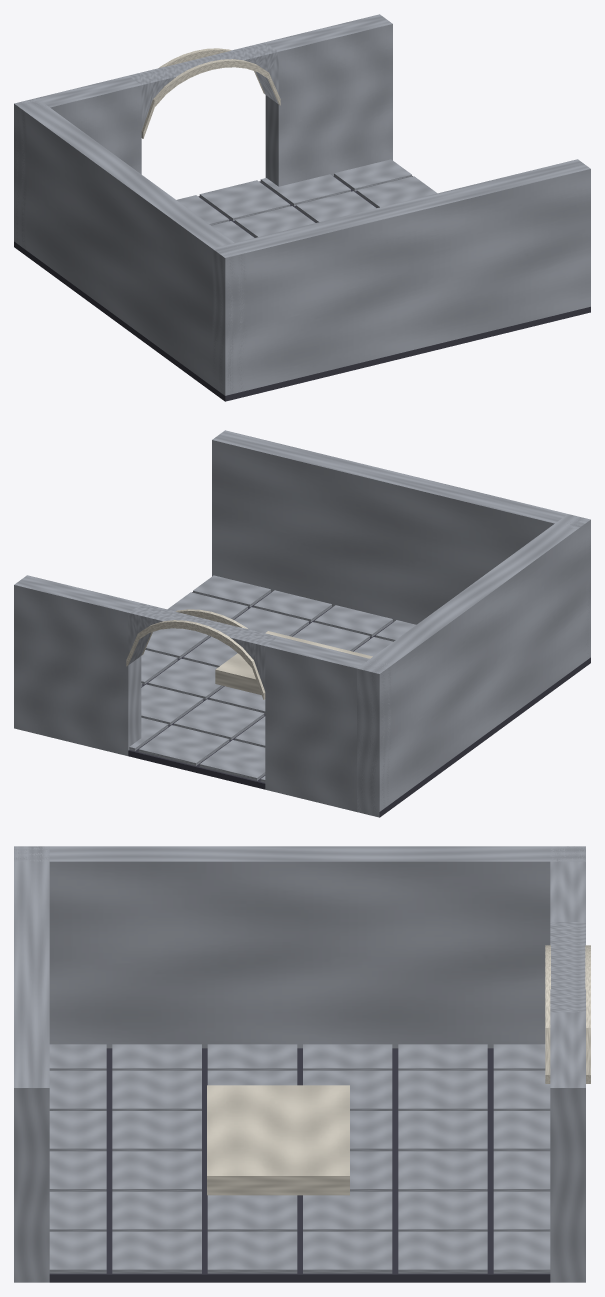
The model's file is vampire-crypt-and-gothic-cathedral-tomb-chamber-cutawa-d294e747__23057.glb.
3 renders of one model, top to bottom at view 1: azimuth 30°, elevation 25°; view 2: azimuth 150°, elevation 25°; view 3: azimuth 270°, elevation 25°, orthographic. The views are drawn at different scales.
Visible parts, largest first — view 1: tomb-chamber-cutaway; view 2: tomb-chamber-cutaway; view 3: tomb-chamber-cutaway.
Boxes of the visible parts, x1=… form: tomb-chamber-cutaway: x1=14, y1=14, x2=590, y2=401; tomb-chamber-cutaway: x1=14, y1=430, x2=590, y2=817; tomb-chamber-cutaway: x1=14, y1=846, x2=590, y2=1282.
Size of the model in its own units: 8 by 3.14 by 8.07.
3 materials, 2 textured.
